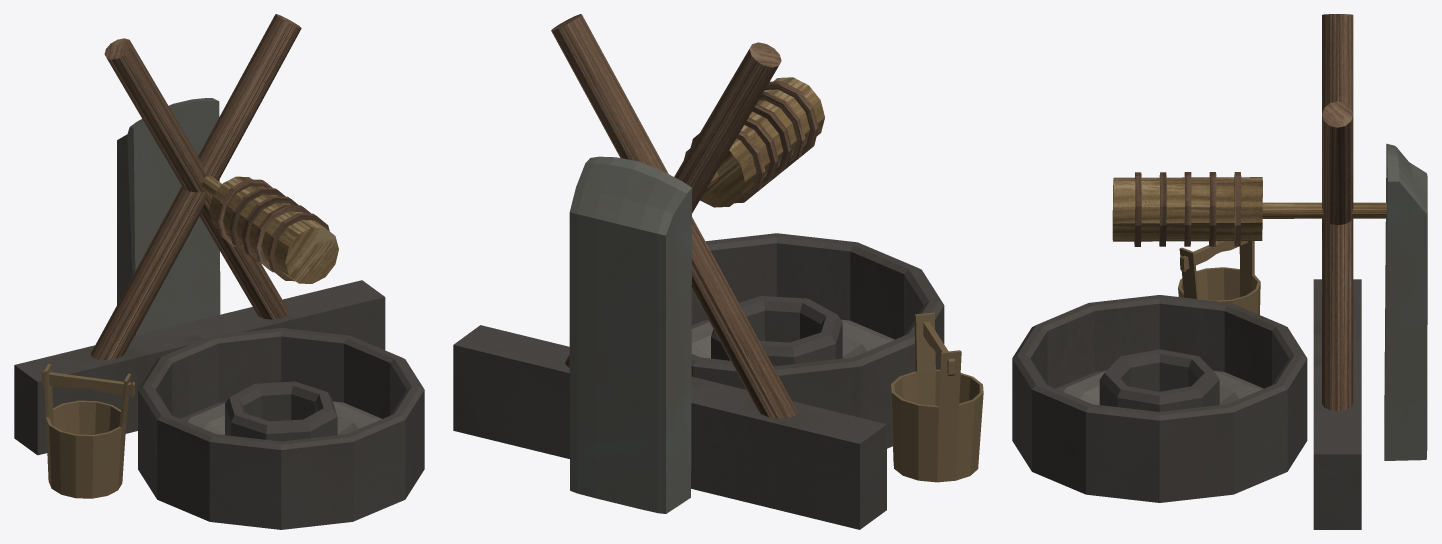
File: ShuiJing05.fbx
3 views of the same model, side by side, from view 1: azimuth 30°, elevation 25°; view 2: azimuth 150°, elevation 25°; view 3: azimuth 270°, elevation 25° (orthographic). The views are drawn at different scales.
Parts seen in each view (by area): view 1: Shuijing05; view 2: Shuijing05; view 3: Shuijing05.
Part boxes in pixels (box(x1,y1,x2,y2)): Shuijing05: box(14, 14, 424, 529); Shuijing05: box(453, 14, 983, 529); Shuijing05: box(1012, 14, 1427, 529).
Size of the model in its own units: 205 by 197 by 188.
